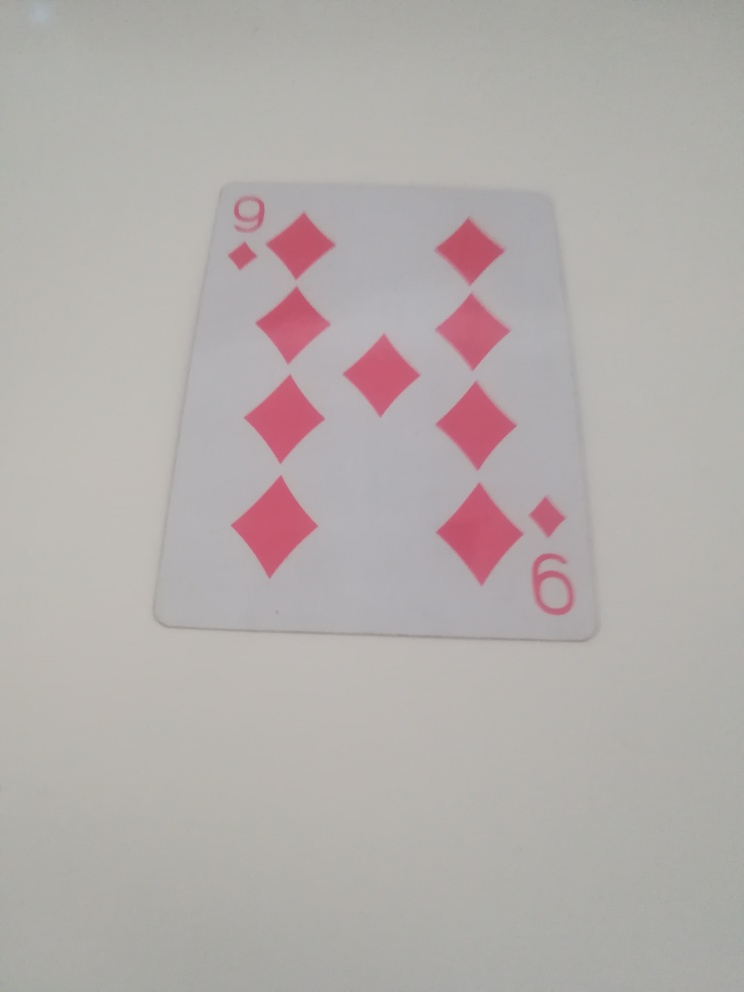9D: (220, 188, 270, 278)
